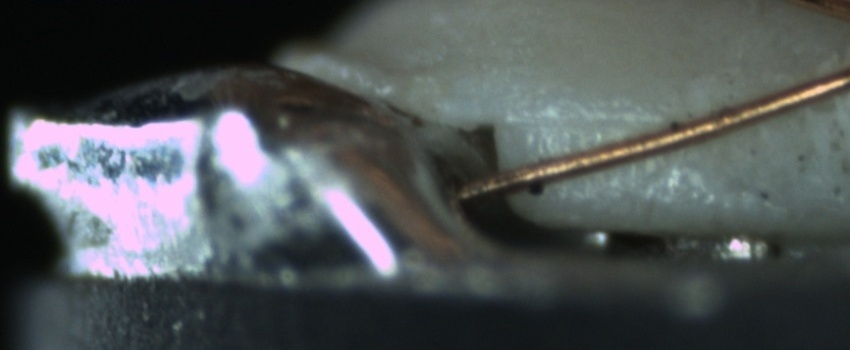DL: (518, 87, 672, 151)
